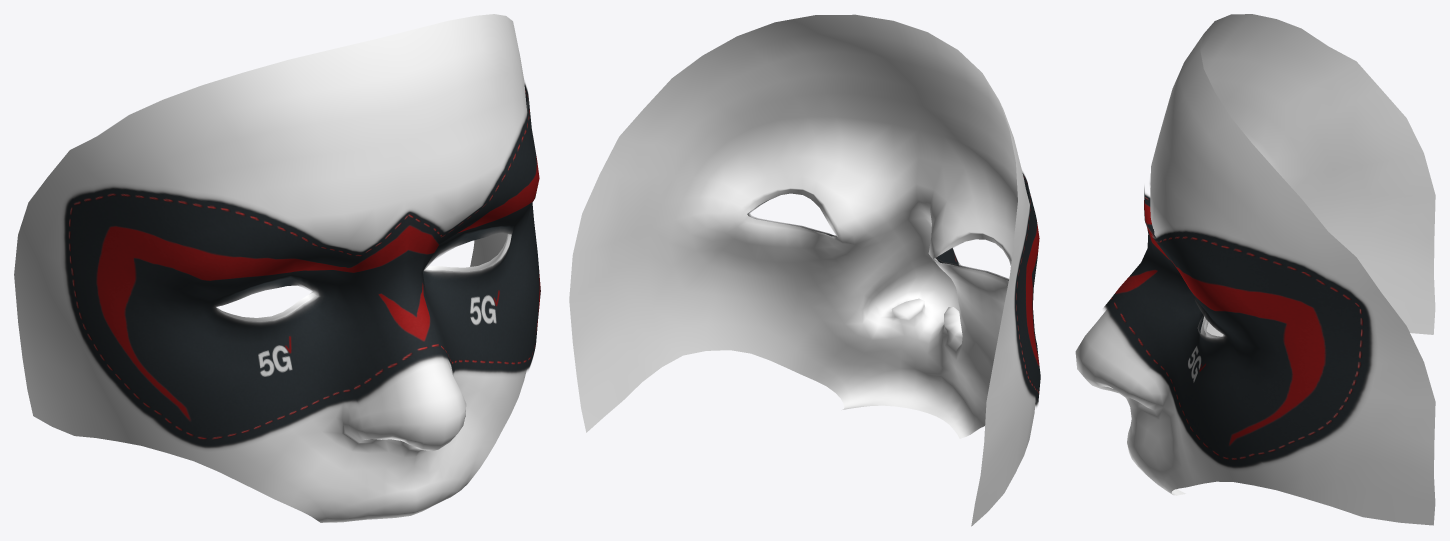
The model's file is bear.gltf.
3 renders of one model, left to right at view 1: azimuth 30°, elevation 25°; view 2: azimuth 150°, elevation 25°; view 3: azimuth 270°, elevation 25°, orthographic. The views are drawn at different scales.
Parts seen in each view (by area): view 1: transparentOccluder, Mask; view 2: transparentOccluder, Mask; view 3: transparentOccluder, Mask.
Boxes of the visible parts, x1,y1,x2,y2 form: transparentOccluder: (14, 14, 526, 522); Mask: (62, 82, 540, 450); transparentOccluder: (569, 14, 1035, 526); Mask: (747, 170, 1040, 407); transparentOccluder: (1075, 14, 1435, 525); Mask: (1103, 180, 1375, 470).
Size of the model in its own units: 217 by 202 by 161.
Materials: 2 (1 with a texture image).
